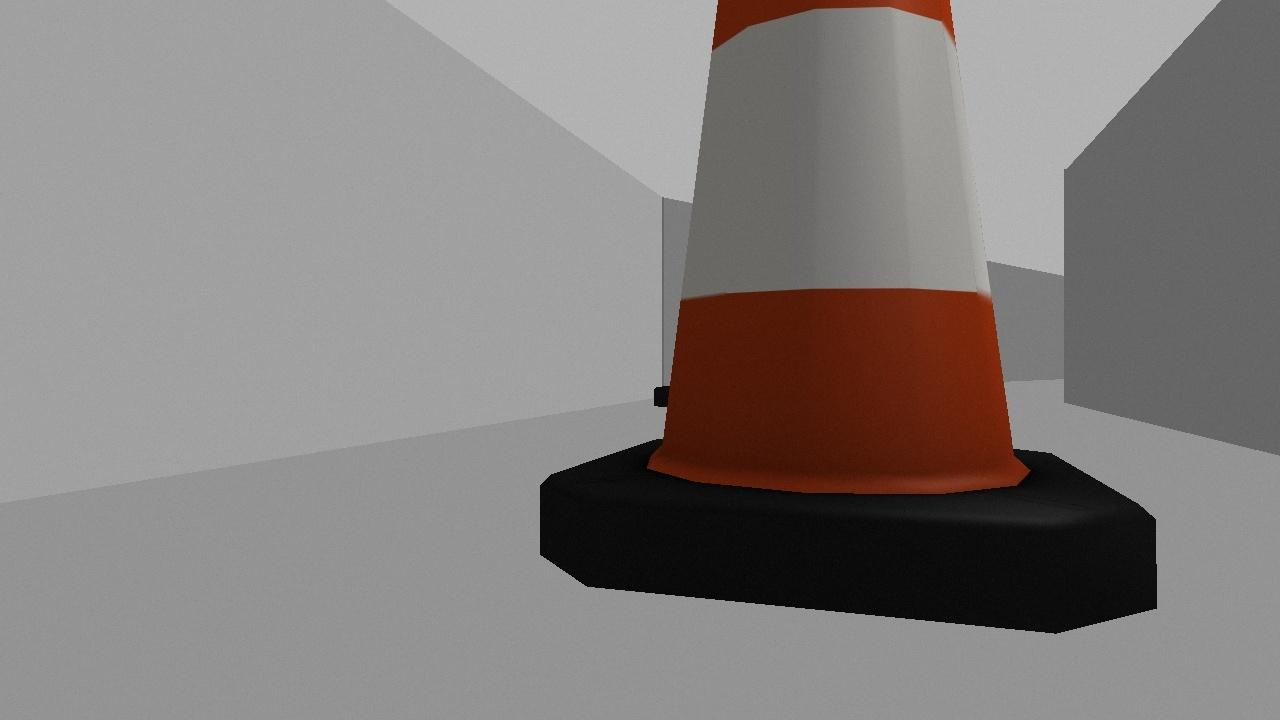cone_barrel: (536, 0, 1158, 635)
